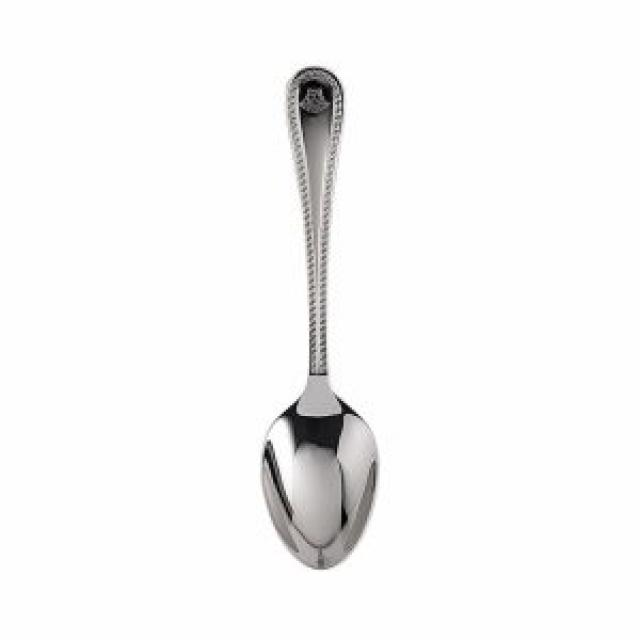spoon: (236, 39, 402, 578)
